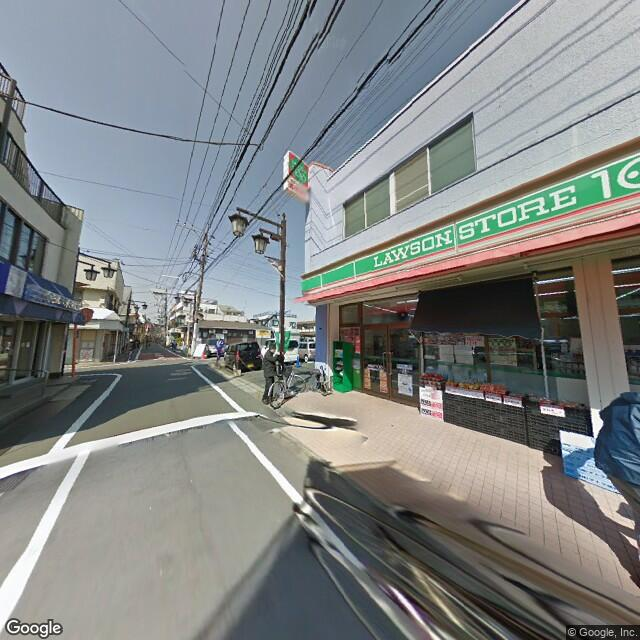lawson: (303, 148, 639, 297), (283, 143, 314, 193)
